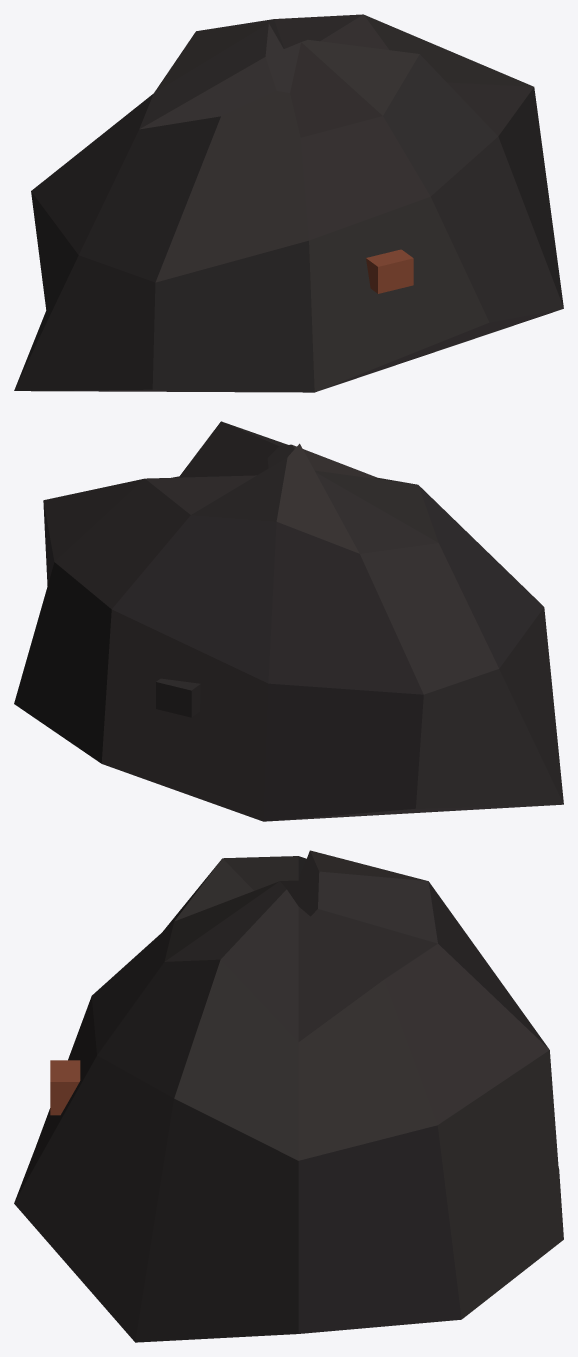
The model's file is walk_prop_ore_pile.glb.
3 renders of one model, top to bottom at view 1: azimuth 30°, elevation 25°; view 2: azimuth 150°, elevation 25°; view 3: azimuth 270°, elevation 25°, orthographic. The views are drawn at different scales.
Parts seen in each view (by area): view 1: walk_prop_ore_pile; view 2: walk_prop_ore_pile; view 3: walk_prop_ore_pile.
Part boxes in pixels (bbox=[...]): walk_prop_ore_pile: bbox=[14, 14, 563, 392]; walk_prop_ore_pile: bbox=[14, 421, 563, 821]; walk_prop_ore_pile: bbox=[14, 850, 563, 1342].
Size of what is drawn, in the model's own units: 3.22 by 1.78 by 2.38.
Materials: 2 (2 with a texture image).
